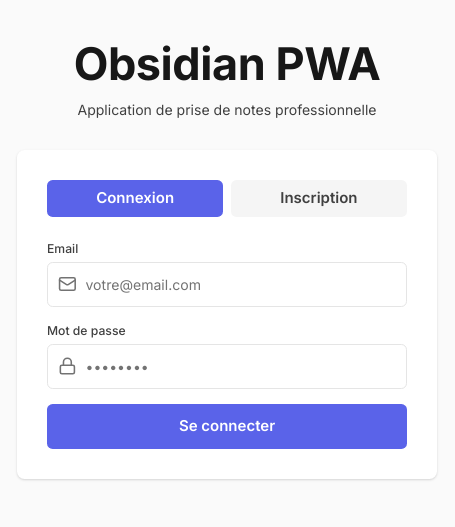
Test case: AuthView › Error Handling › should display generic error on unexpected error
Step 1. Type "test@example.com" into the field labelled "Email" → {"x": 227, "y": 284}, box [47,262,407,307]
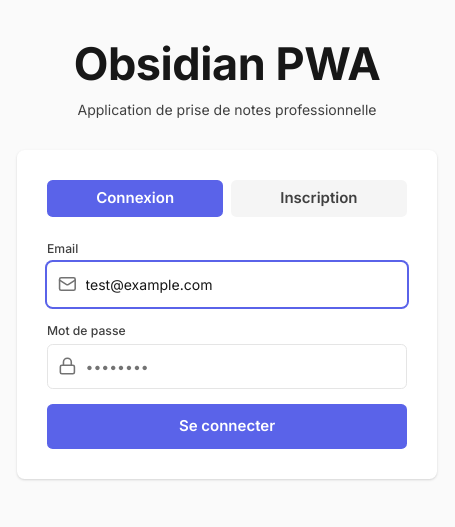
Step 2. Type "password123" into the password field labelled "Mot de passe" → {"x": 227, "y": 366}, box [47,344,407,389]
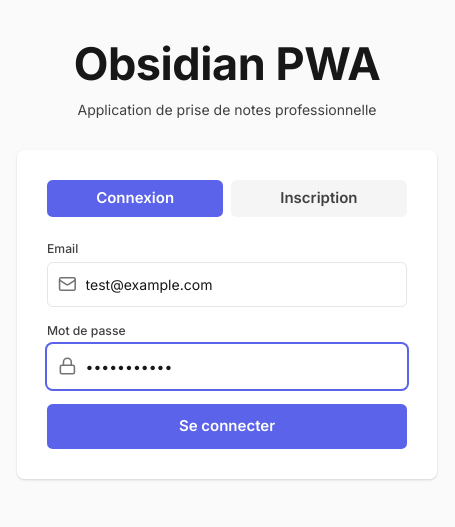
Step 3. Click the button "Se connecter" → {"x": 227, "y": 426}, box [47,404,407,449]
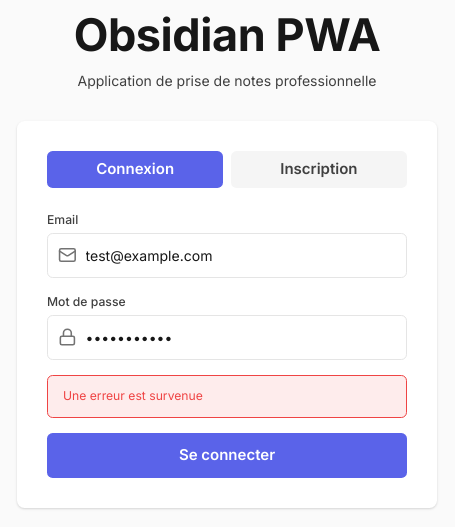
Check: the text "Une erreur est survenue" is shown, box [47,375,407,418]
